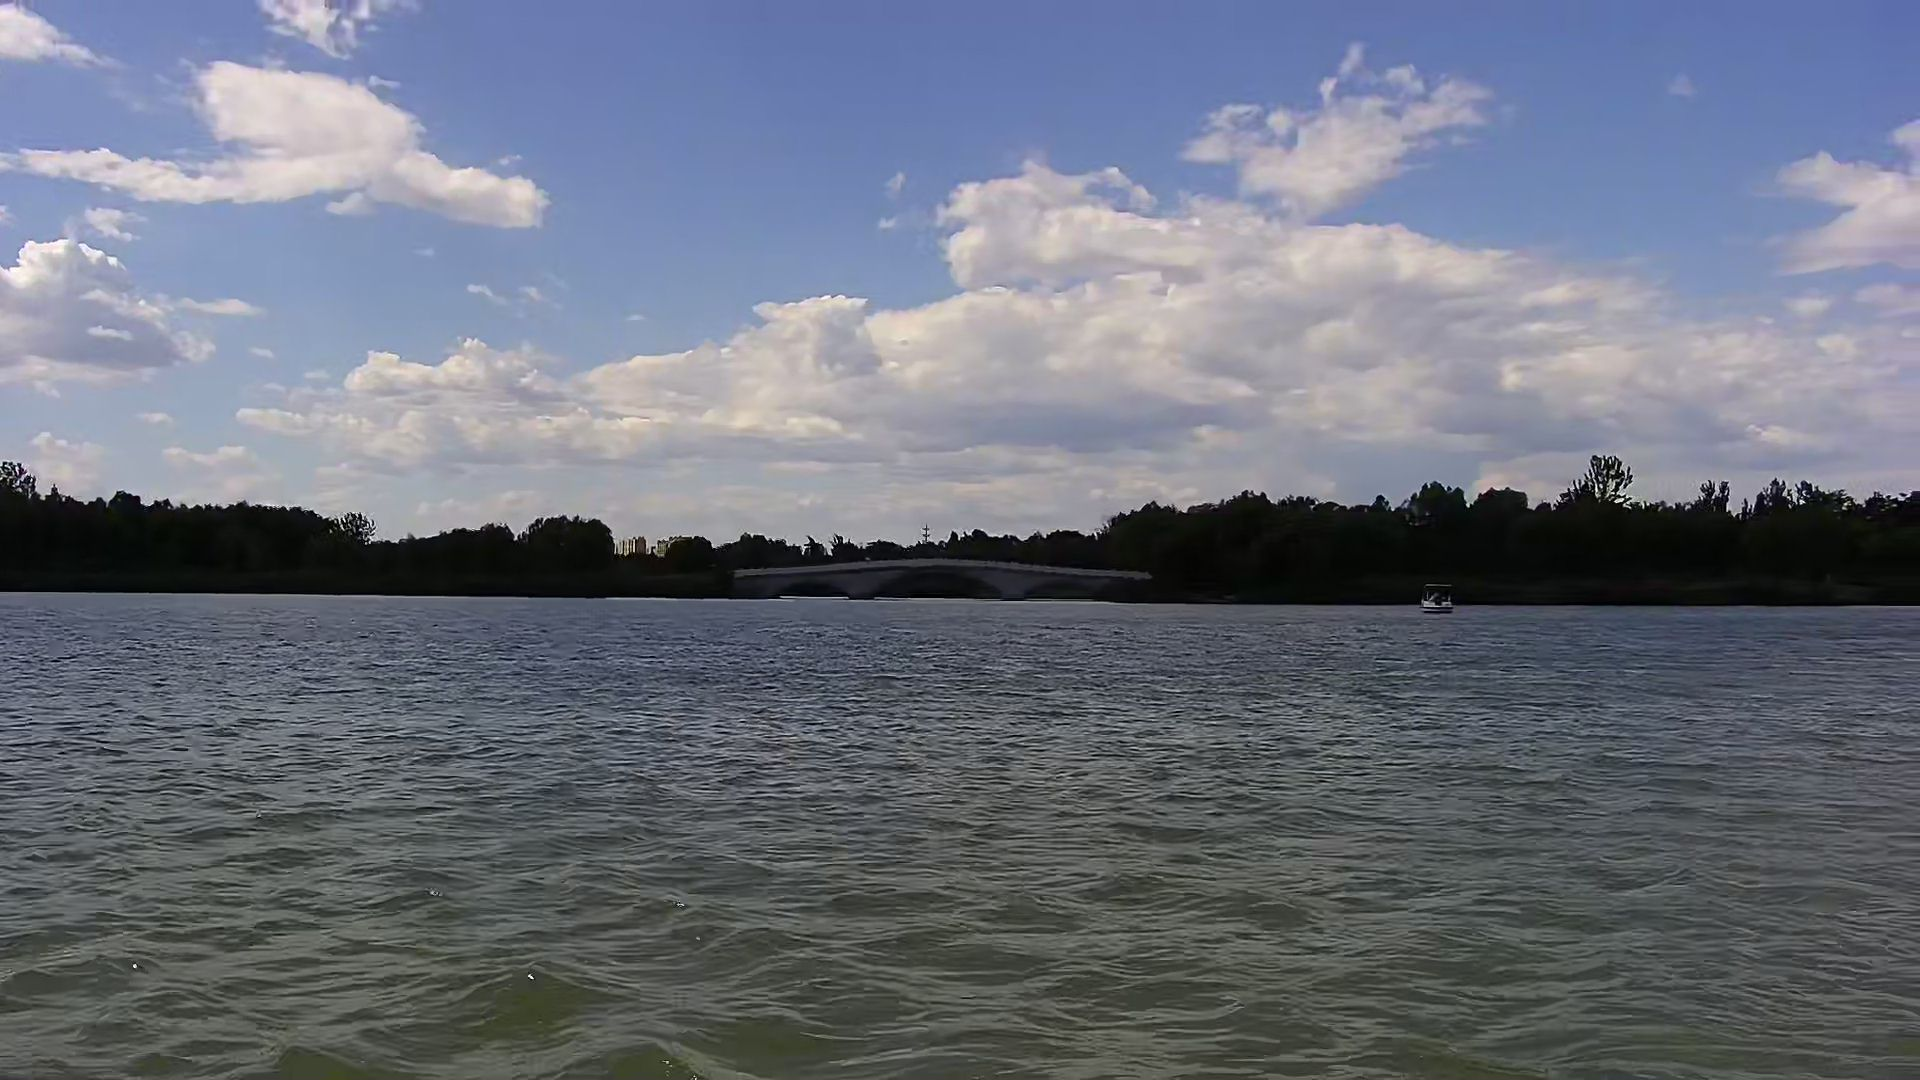boat: (1412, 570, 1458, 622)
bridge: (723, 545, 1160, 607)
